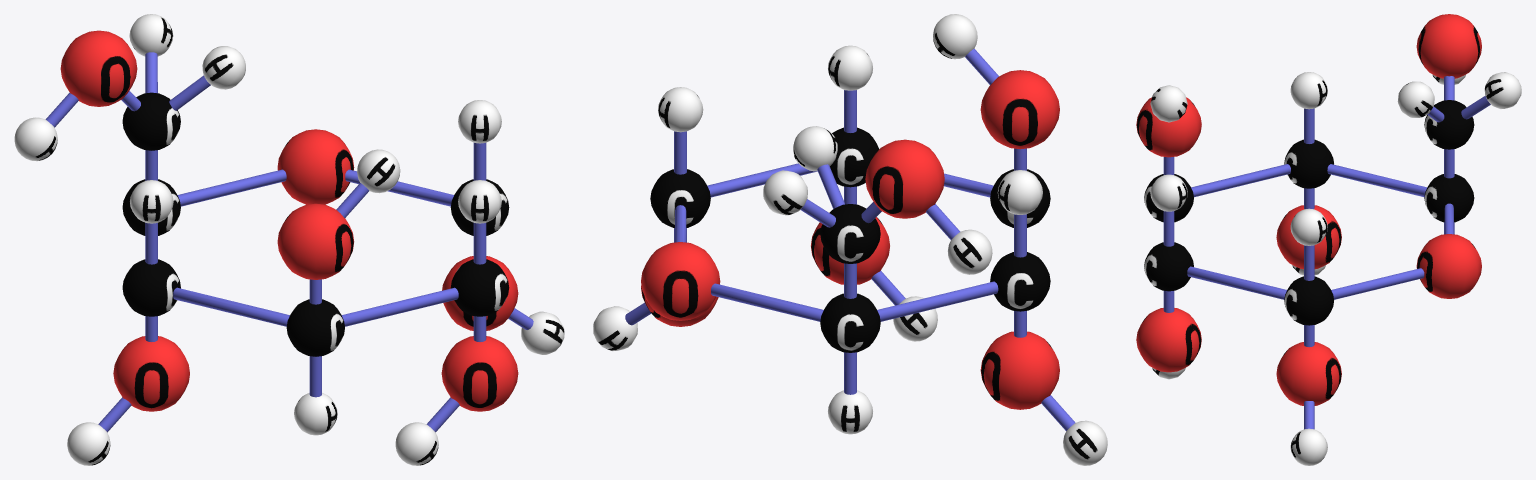
Rendered from chapter-1-section-2-glucose.glb.
The picture shows the model from 3 angles, left to right: view 1: azimuth 30°, elevation 25°; view 2: azimuth 150°, elevation 25°; view 3: azimuth 270°, elevation 25°; orthographic projection. The views are drawn at different scales.
Visible parts, largest first — view 1: hexagon, hexagon.001, oxygen.001, hexagon.006, hexagon.003, hexagon.008, hexagon.004, hexagon.009, hexagon.005, hexagon.002; view 2: hexagon, hexagon.001, oxygen.001, hexagon.006, hexagon.008, hexagon.003, hexagon.005, hexagon.009, hexagon.002, hexagon.004; view 3: hexagon, hexagon.001, oxygen.001, hexagon.009, hexagon.002, hexagon.006, hexagon.005.
Part boxes in pixels (x1,y1,x2,y2): hexagon: (113,92,518,435); hexagon.001: (173,169,458,326); oxygen.001: (60,30,137,106); hexagon.006: (169,46,245,110); hexagon.003: (67,397,131,465); hexagon.008: (14,92,78,161); hexagon.004: (395,397,459,465); hexagon.009: (129,14,173,93); hexagon.005: (336,149,400,217); hexagon.002: (508,308,564,354); hexagon: (641,45,1059,434); hexagon.001: (675,163,998,321); oxygen.001: (865,139,944,218); hexagon.006: (793,126,844,208); hexagon.008: (926,204,992,274); hexagon.003: (1041,395,1107,465); hexagon.005: (933,14,998,85); hexagon.009: (763,170,835,227); hexagon.002: (593,302,651,351); hexagon.004: (871,270,937,341); hexagon: (1136,72,1481,405); hexagon.001: (1187,164,1453,299); oxygen.001: (1416,14,1481,78); hexagon.009: (1461,72,1521,119); hexagon.002: (1290,401,1327,465); hexagon.006: (1397,81,1444,122); hexagon.005: (1150,85,1187,122).
Size of the model in its own units: 4.49 by 3.03 by 3.57.
4 materials, 3 textured.
